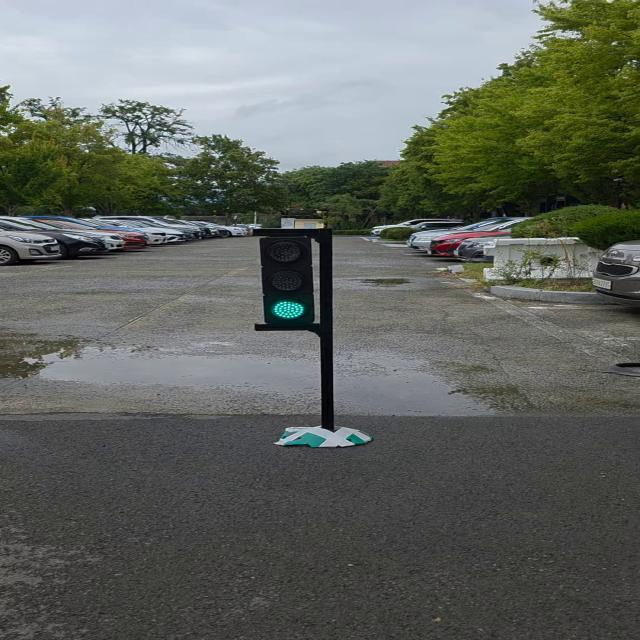green: (261, 231, 317, 328)
